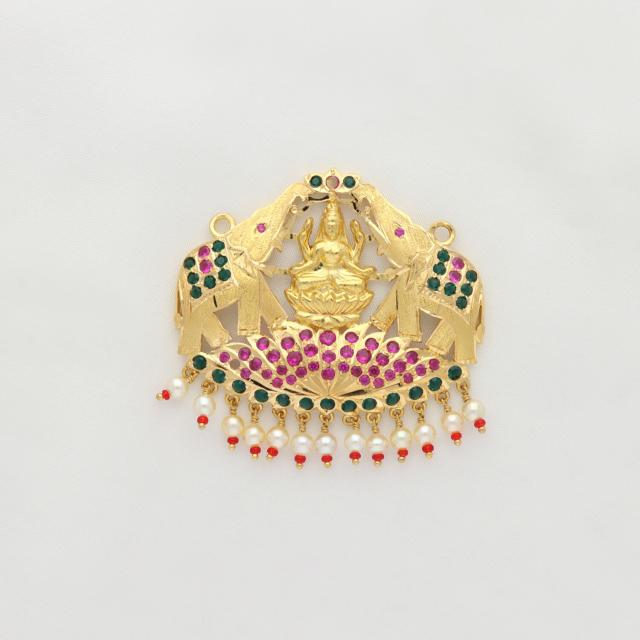missing gem: (326, 176, 339, 189)
